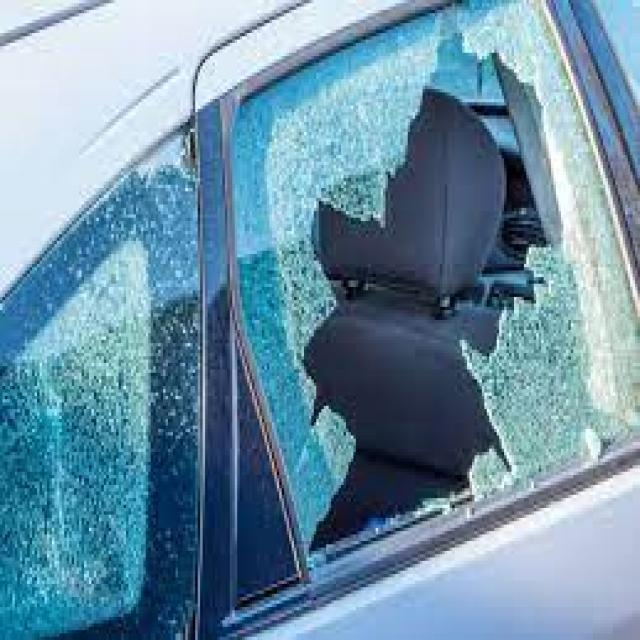damaged-window: (222, 0, 640, 571), (0, 137, 212, 640)
